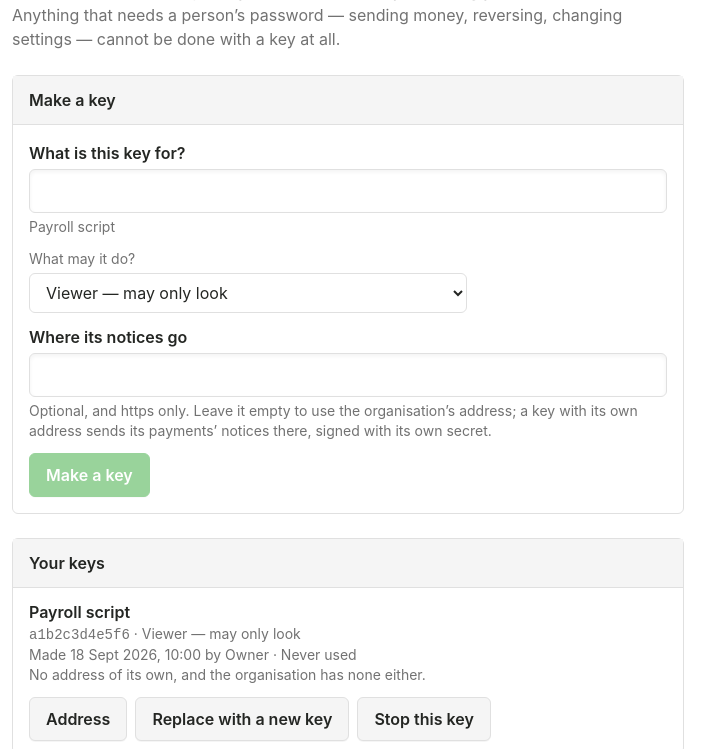
Test: API keys (phase E) › revokes a key and says so
The width and height of the screenshot is (701, 749).
(page scrolled)
Check: the list item with test id "key-k1" is shown, box left=29, top=602, right=491, bottom=741
Click the button "Stop this key": point(424, 719) left=357, top=697, right=491, bottom=741
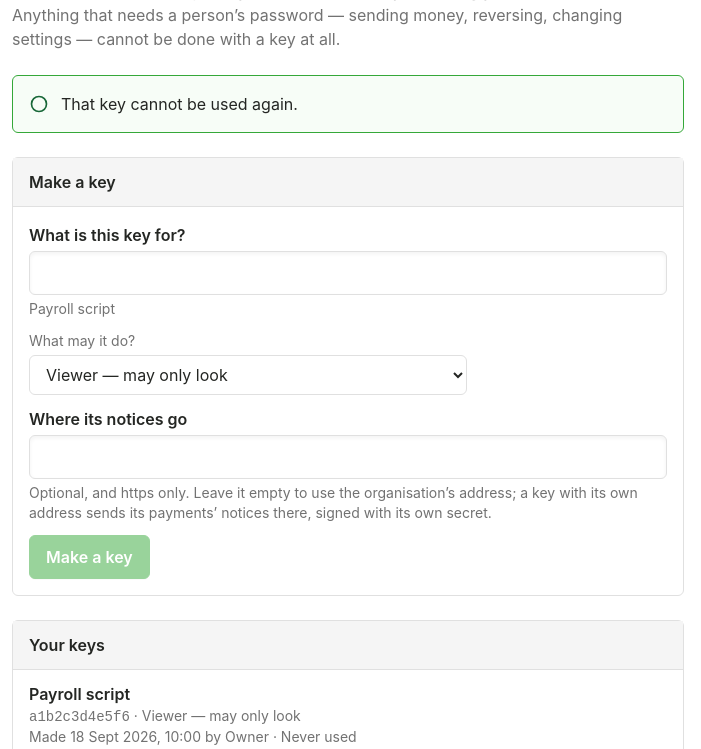
Check: the text "That key cannot be used again." is shown, box left=61, top=94, right=298, bottom=114
Check: the button "Stop this key" is gone
